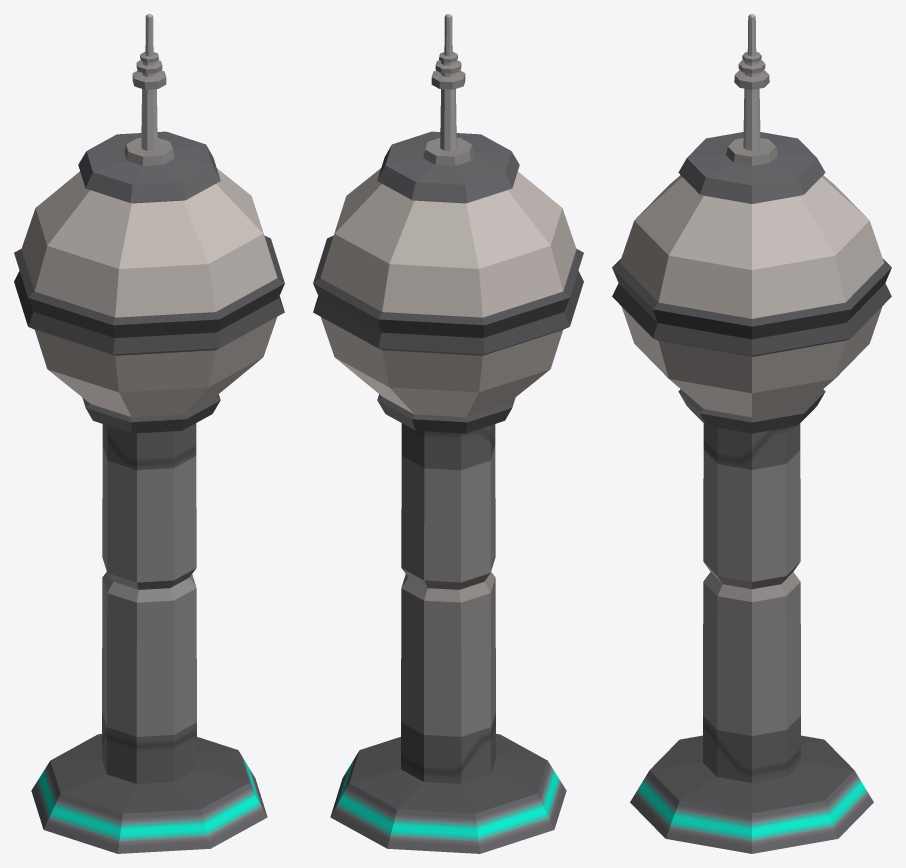
The model's file is SM_Prop_Street_Light_04.fbx.
3 renders of one model, left to right at view 1: azimuth 30°, elevation 25°; view 2: azimuth 150°, elevation 25°; view 3: azimuth 270°, elevation 25°, orthographic.
Visible parts, largest first — view 1: SM_Prop_Street_Light_04; view 2: SM_Prop_Street_Light_04; view 3: SM_Prop_Street_Light_04.
Part boxes in pixels (<box>): SM_Prop_Street_Light_04: <box>14,14,284,853</box>; SM_Prop_Street_Light_04: <box>313,14,583,853</box>; SM_Prop_Street_Light_04: <box>612,14,891,853</box>.
Bounding box in the file's own units: 45.64 × 142 × 45.64.
